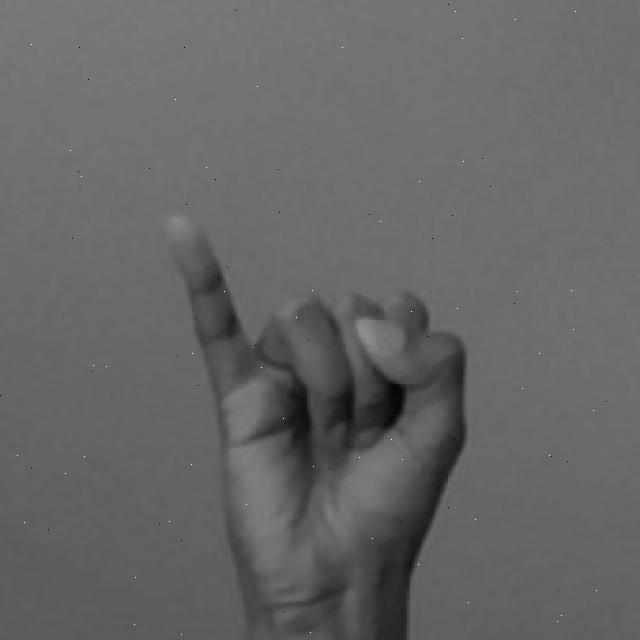I: (156, 210, 479, 640)
